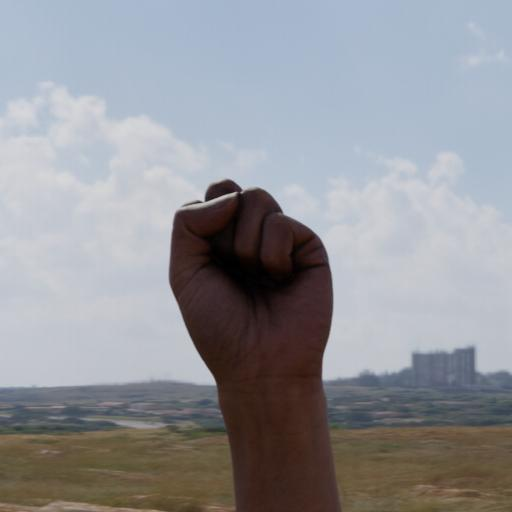S: (148, 168, 355, 512)
